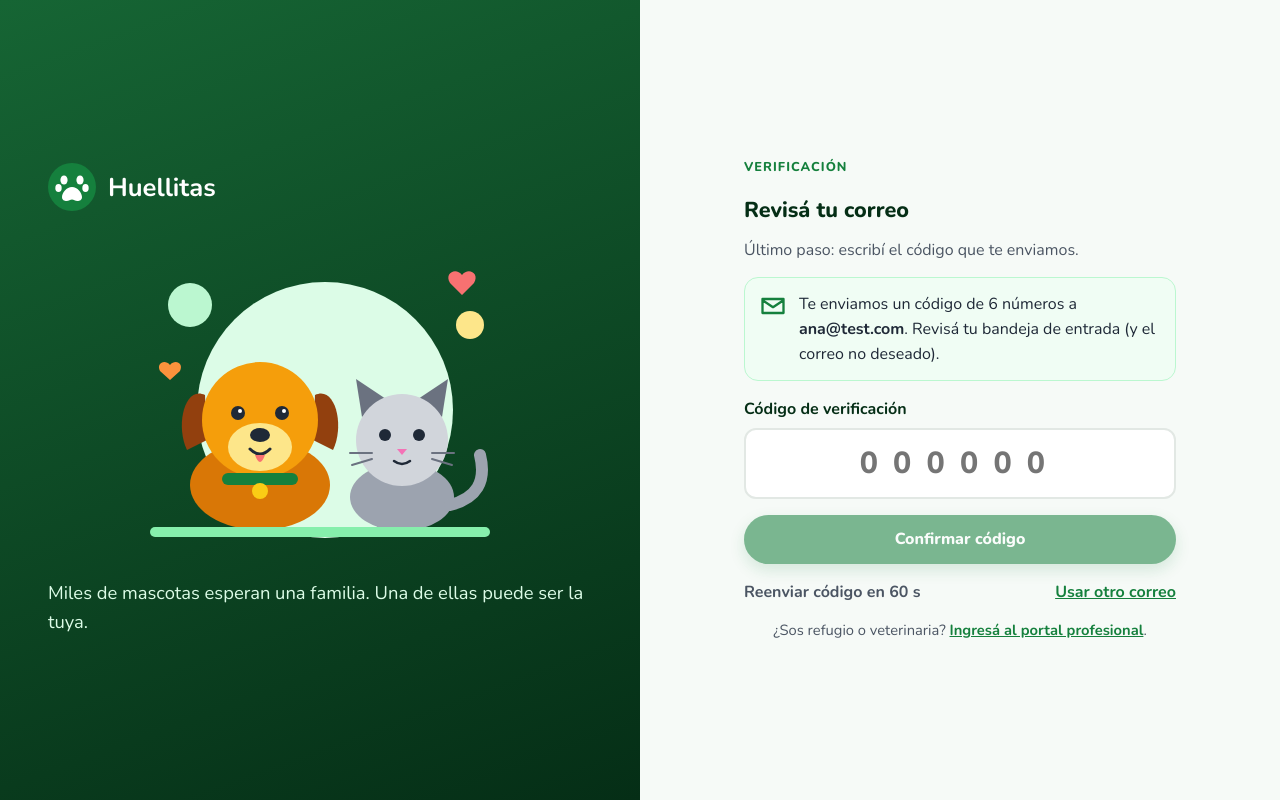
Scenario: AuthPage › pide el código del correo y entra al confirmarlo
Later steps or results of the test are not shown.
Expected: the heading "Revisá tu correo" is shown, [744,195,909,225]
Expected: the text "ana@test.com" is shown, [799,318,904,340]
Type "12a34-56" into the field labelled "Código de verificación" at (960,464), box [744,428,1176,499]
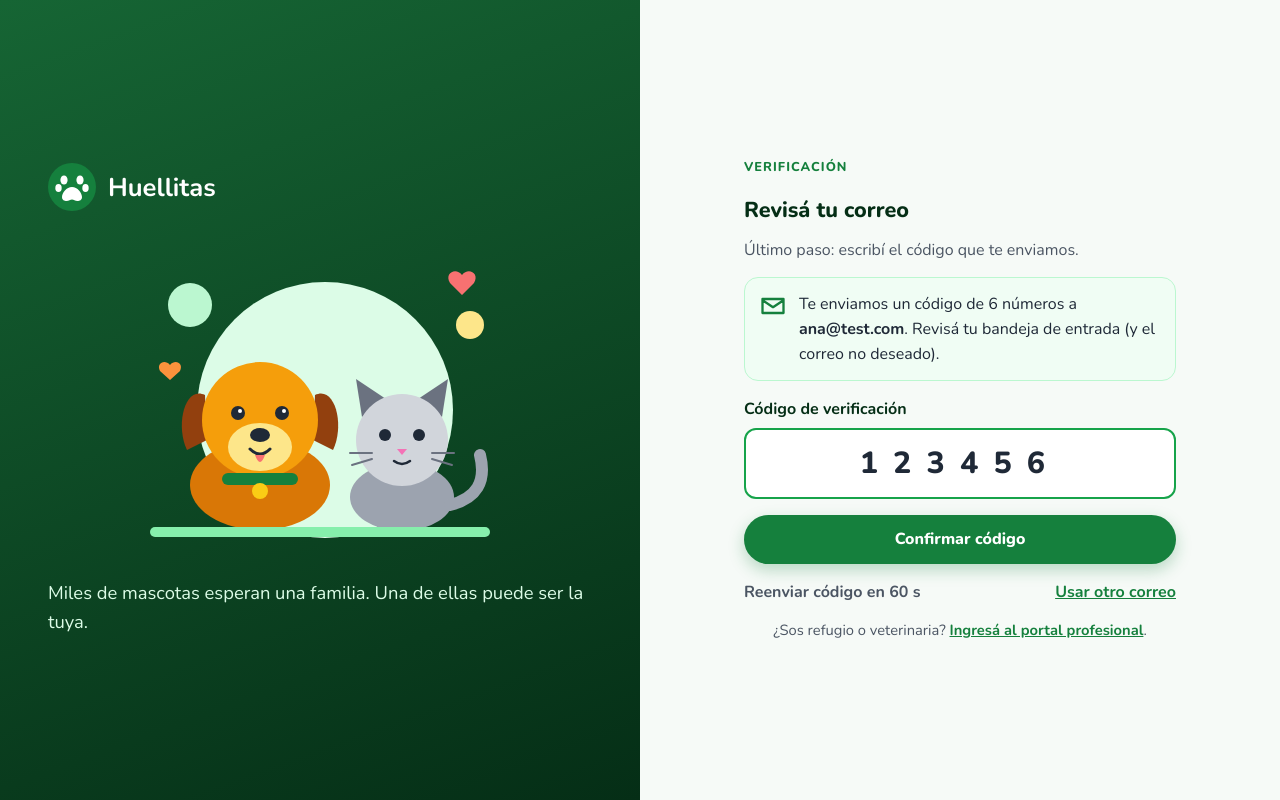
Result: the field labelled "Código de verificación" holds "123456" at [744,428,1176,499]
